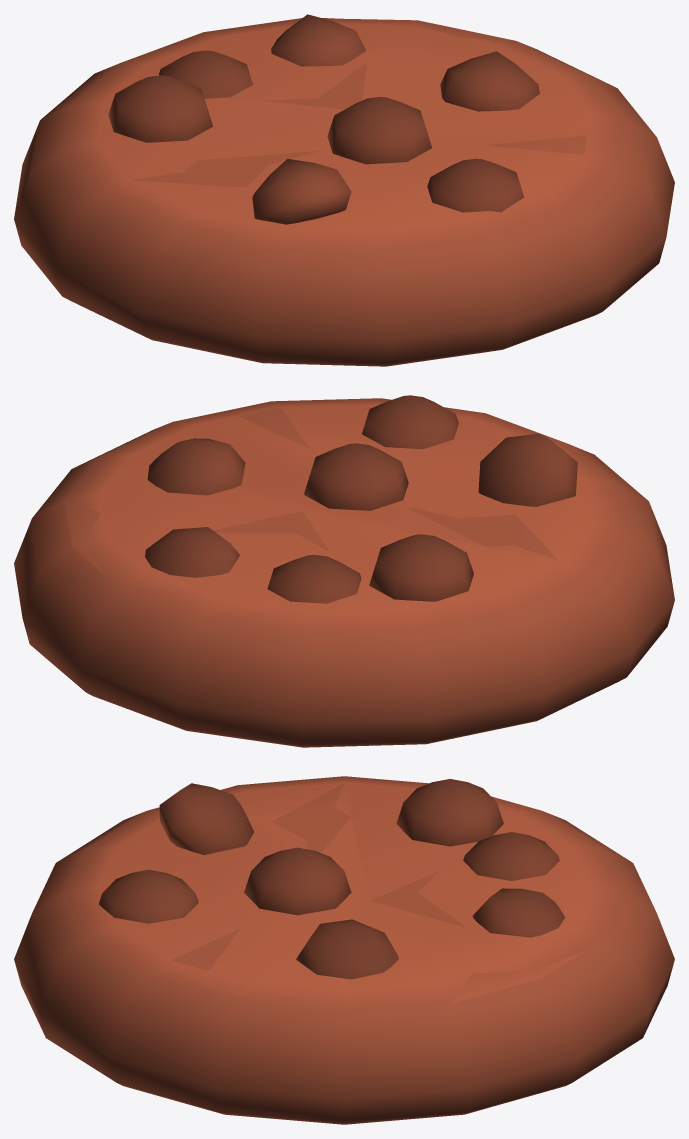
The model's file is Cookie_V1_01.fbx.
3 renders of one model, top to bottom at view 1: azimuth 30°, elevation 25°; view 2: azimuth 150°, elevation 25°; view 3: azimuth 270°, elevation 25°, orthographic.
Parts seen in each view (by area): view 1: Cookie_V1_01; view 2: Cookie_V1_01; view 3: Cookie_V1_01.
Boxes of the visible parts, left/top/right/bottom form: Cookie_V1_01: left=14, top=14, right=674, bottom=366; Cookie_V1_01: left=14, top=395, right=674, bottom=747; Cookie_V1_01: left=14, top=776, right=674, bottom=1124.
Size of the model in its own units: 31.75 by 8.24 by 31.75.
